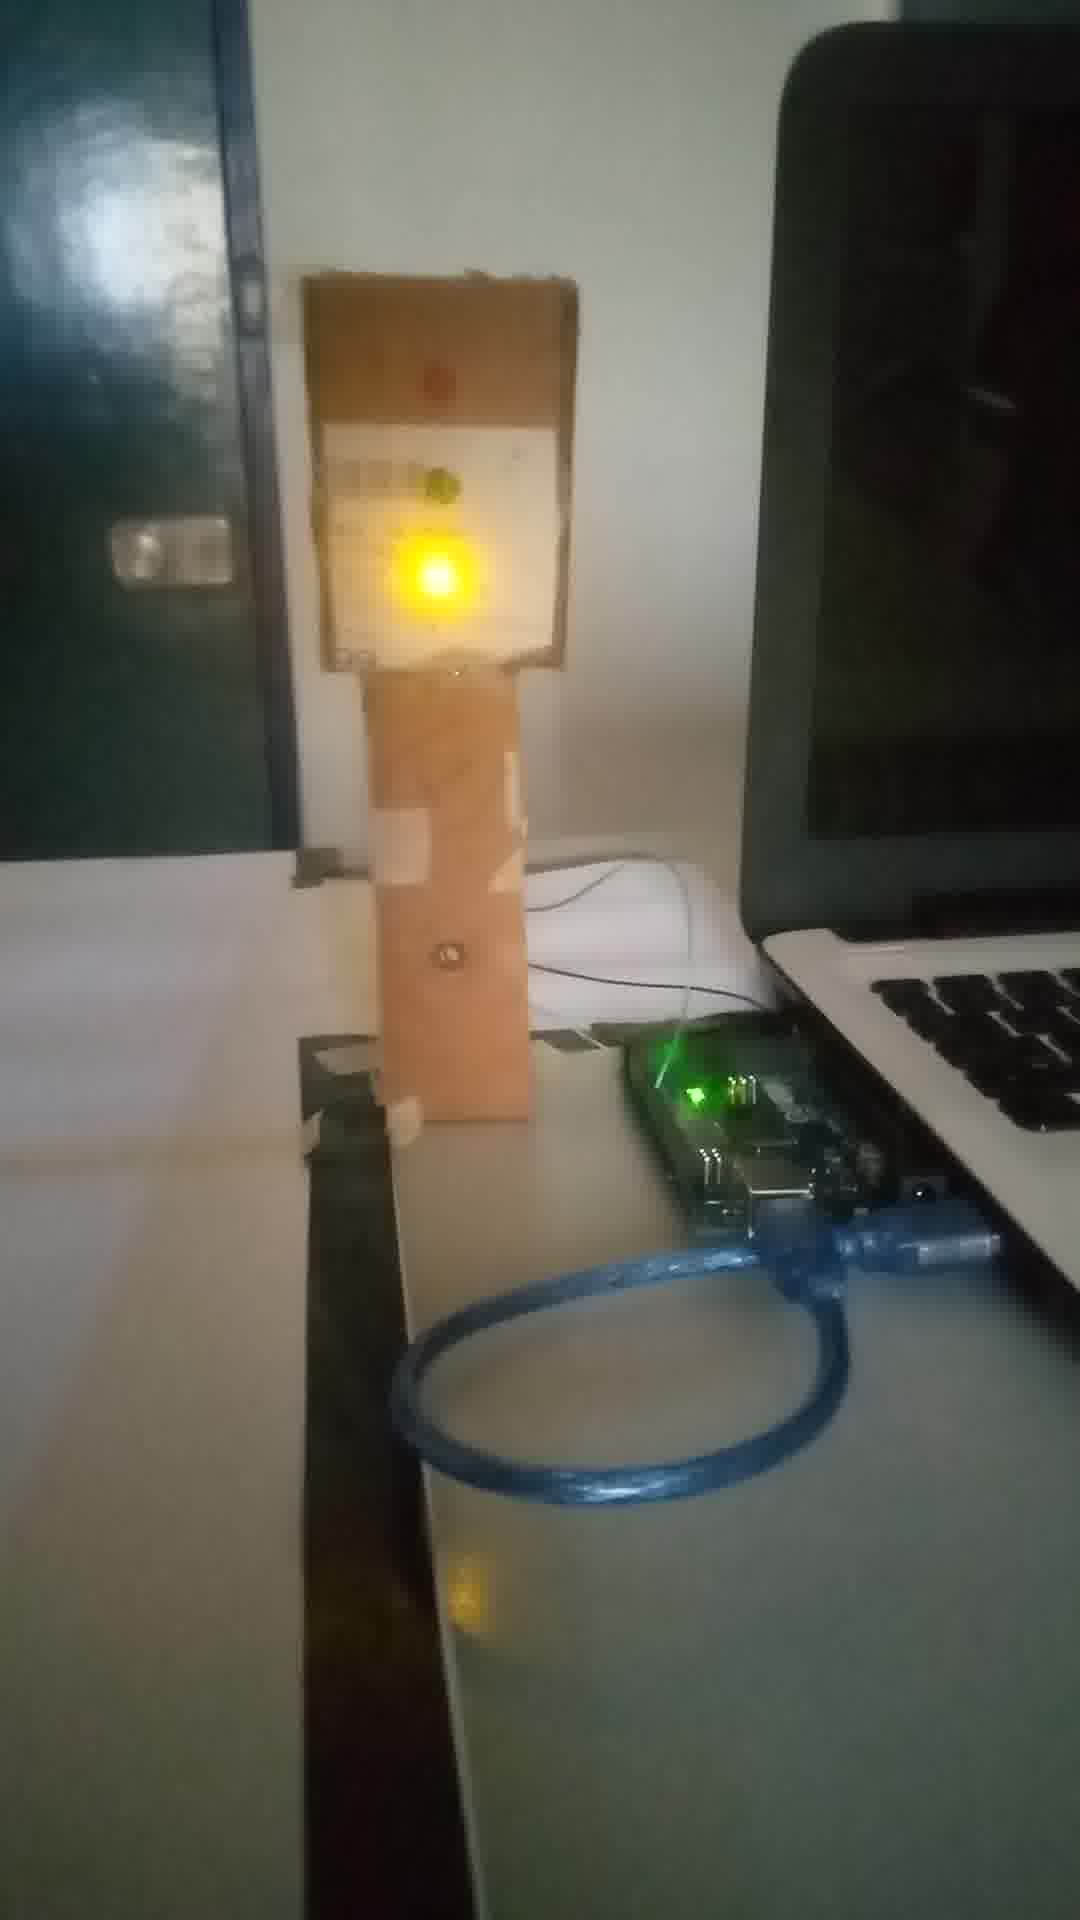green: (301, 280, 582, 680)
